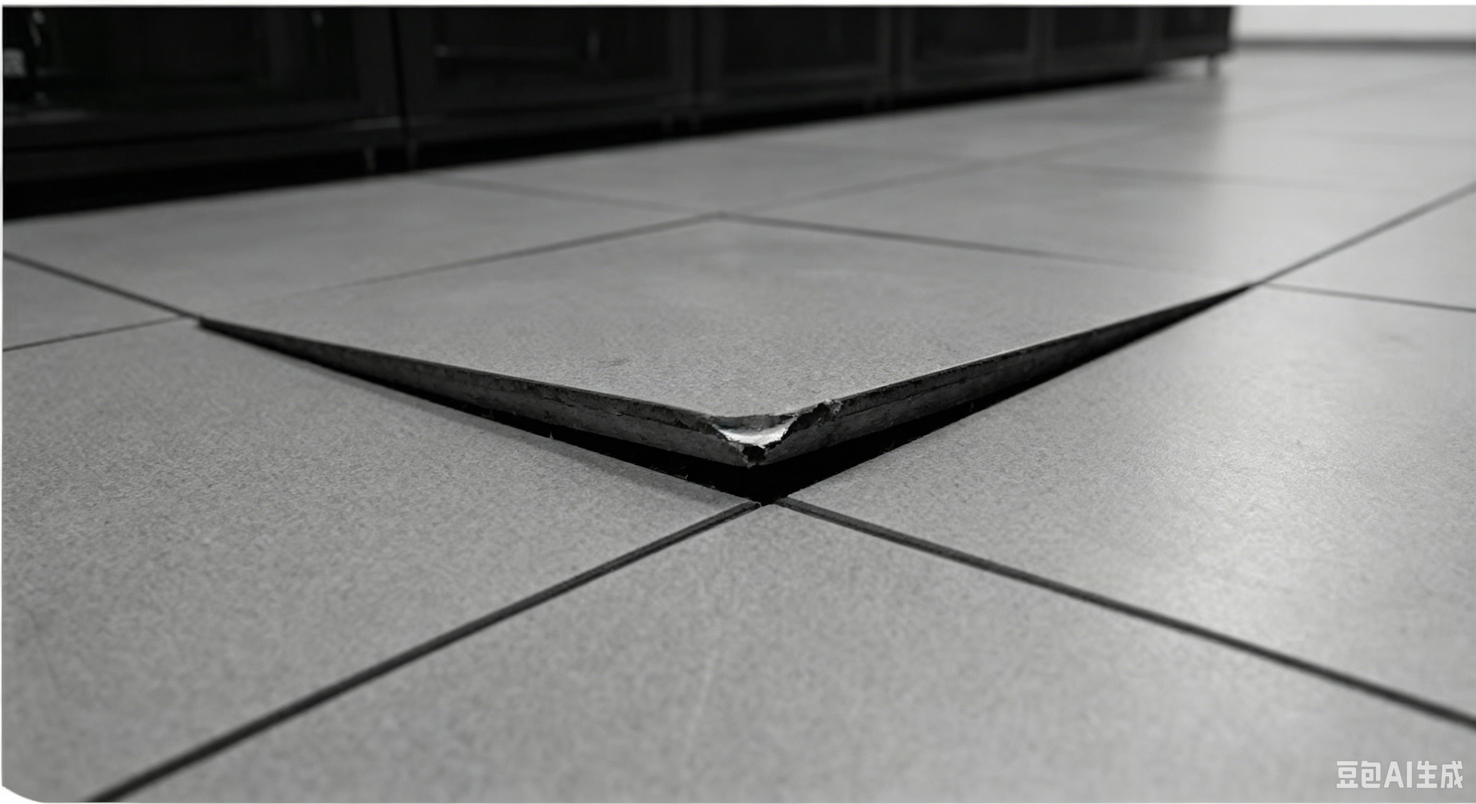floor_defect: (213, 307, 784, 505), (787, 328, 1079, 502), (1080, 280, 1252, 376)
